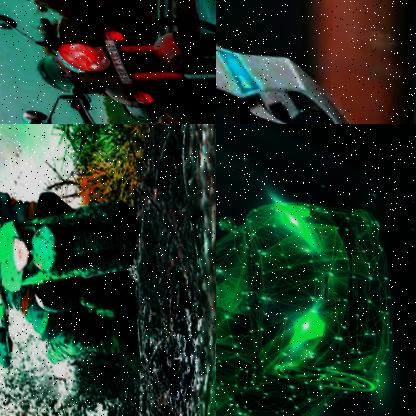bike: (0, 157, 156, 397), (216, 19, 416, 124)
car: (216, 159, 409, 416)
